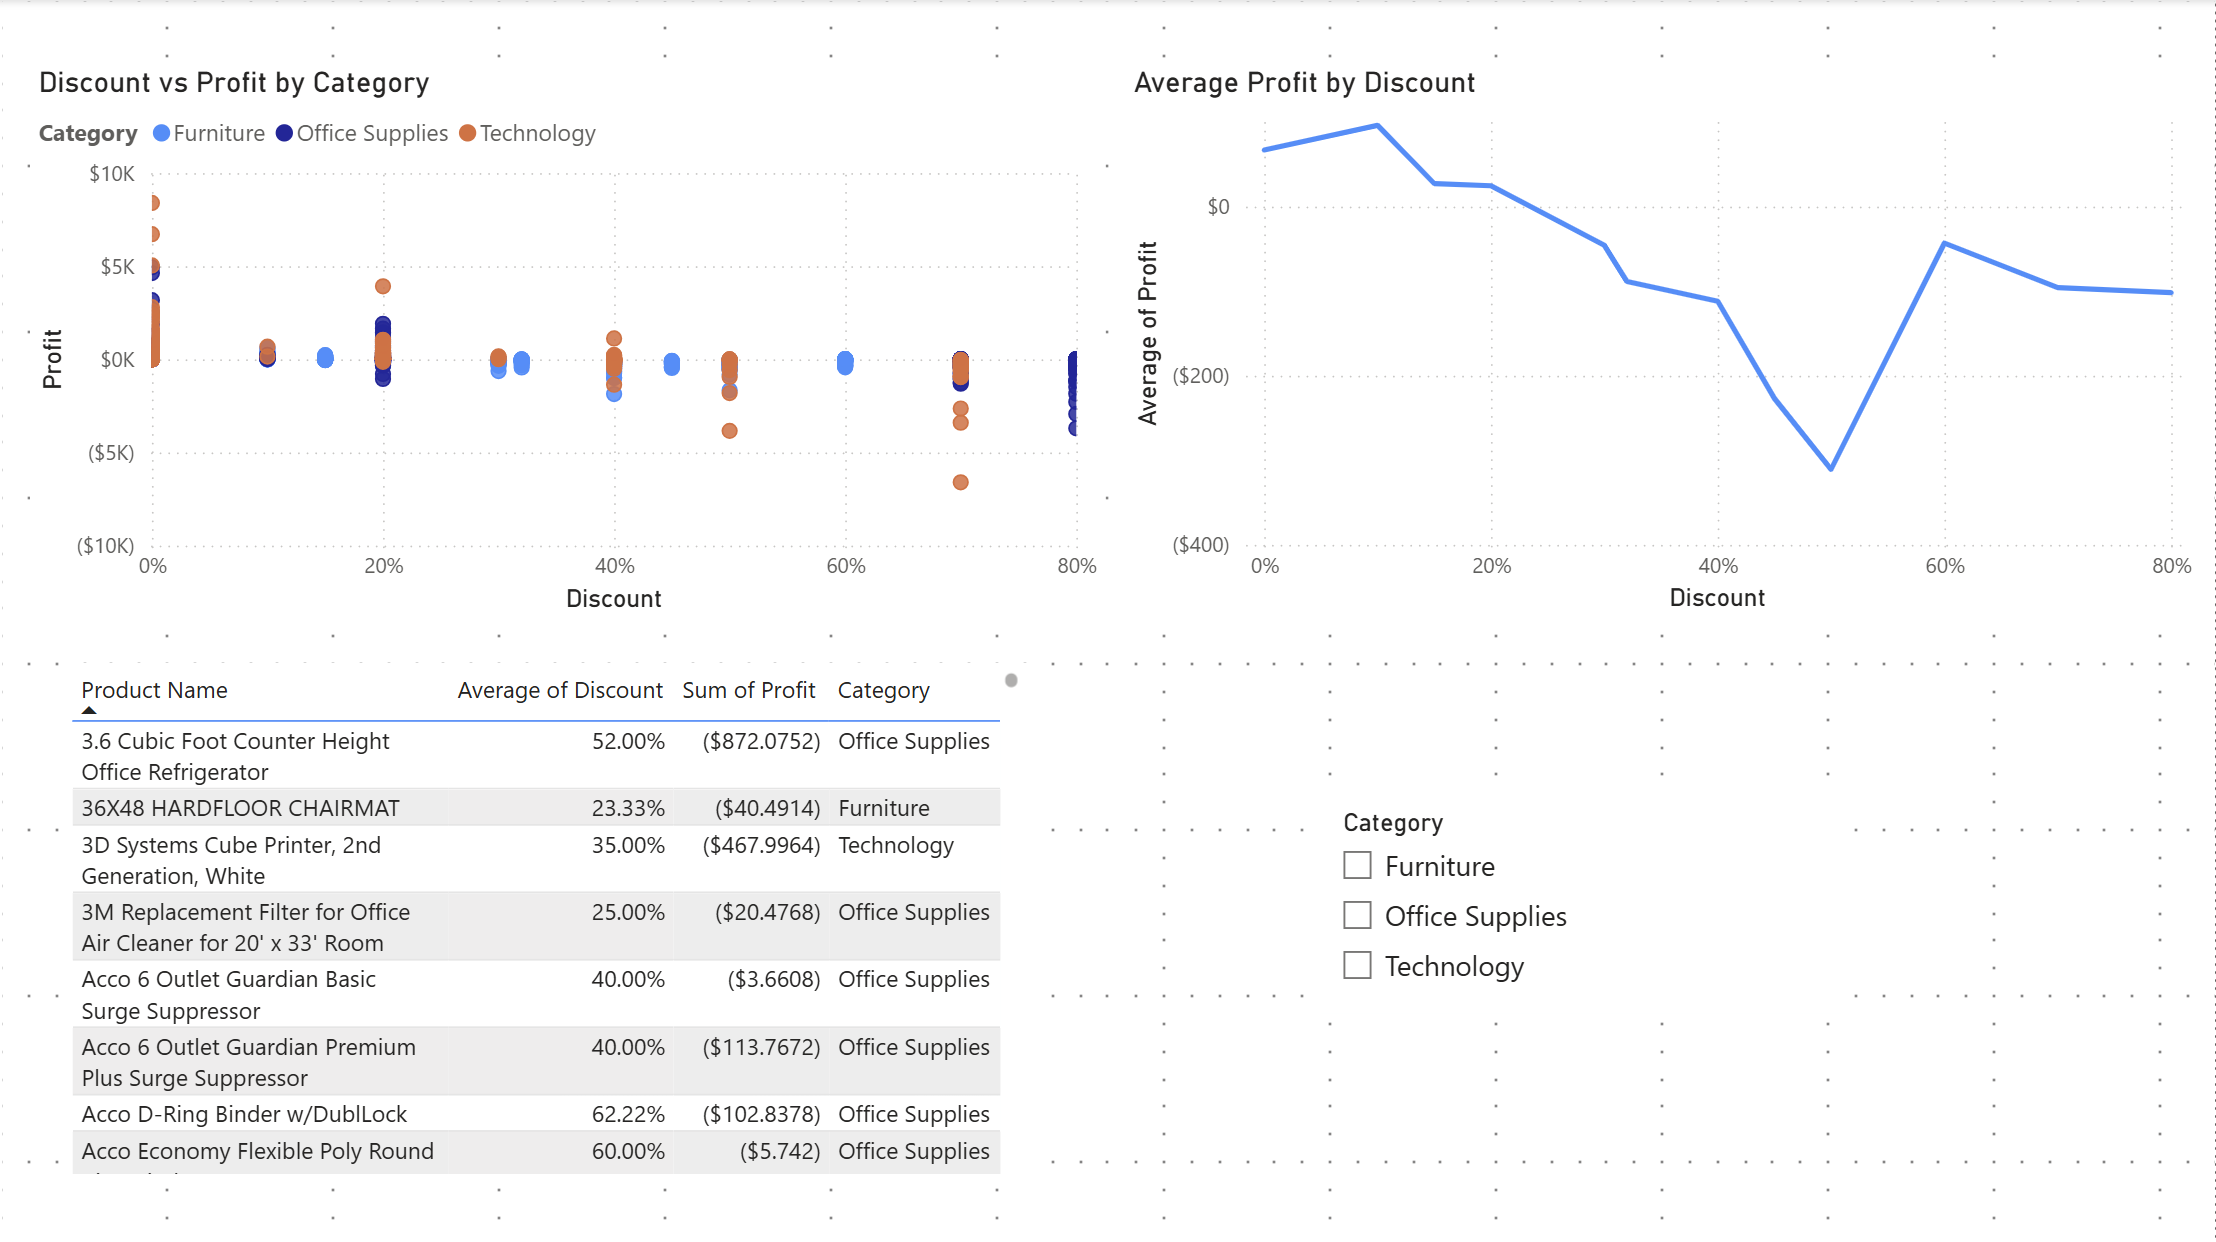

This screenshot's page, from the dashboard's own definition file:
{"tool":"powerbi","page":{"name":"Discount & Profitability Analysis","canvas":[1280,720],"ordinal":3},"visuals":[{"type":"scatterChart","title":"Discount vs Profit by Category","fields":{"X":["superstore_cleaned.Discount"],"Y":["superstore_cleaned.Profit"],"Series":["superstore_cleaned.Category"]},"box":[17.9,38.4,622.1,321.3],"z":0},{"type":"tableEx","fields":{"Values":["superstore_cleaned.Product Name","Avg(superstore_cleaned.Discount)","Sum(superstore_cleaned.Profit)","superstore_cleaned.Category"]},"box":[35.9,384,558.7,300.7],"z":1000},{"type":"lineChart","title":"Average Profit by Discount","fields":{"Y":["Avg(superstore_cleaned.Profit)"],"Category":["superstore_cleaned.Discount"]},"box":[650,38,622,321],"z":1001},{"type":"slicer","fields":{"Values":["superstore_cleaned.Category"]},"box":[763.4,462.7,300.7,123.8],"z":1002}]}

Visuals, with their boxes in screenshot pixels (x1, y1, x2, y2), scaled from the page's 1280x720 canvas onto the 2216x1242 screenshot:
"Discount vs Profit by Category" scatterChart: pyautogui.locateOnScreen(31, 66, 1108, 620)
tableEx - superstore_cleaned.Product Name x Avg(superstore_cleaned.Discount): pyautogui.locateOnScreen(62, 662, 1029, 1181)
"Average Profit by Discount" lineChart: pyautogui.locateOnScreen(1125, 66, 2202, 619)
slicer - superstore_cleaned.Category: pyautogui.locateOnScreen(1322, 798, 1842, 1012)
